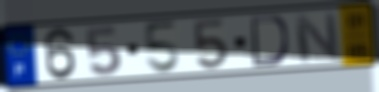5: (141, 19, 183, 75), (84, 25, 124, 78), (191, 18, 230, 70)
6: (42, 26, 78, 81)
D: (248, 14, 291, 68)
N: (292, 11, 343, 65)
